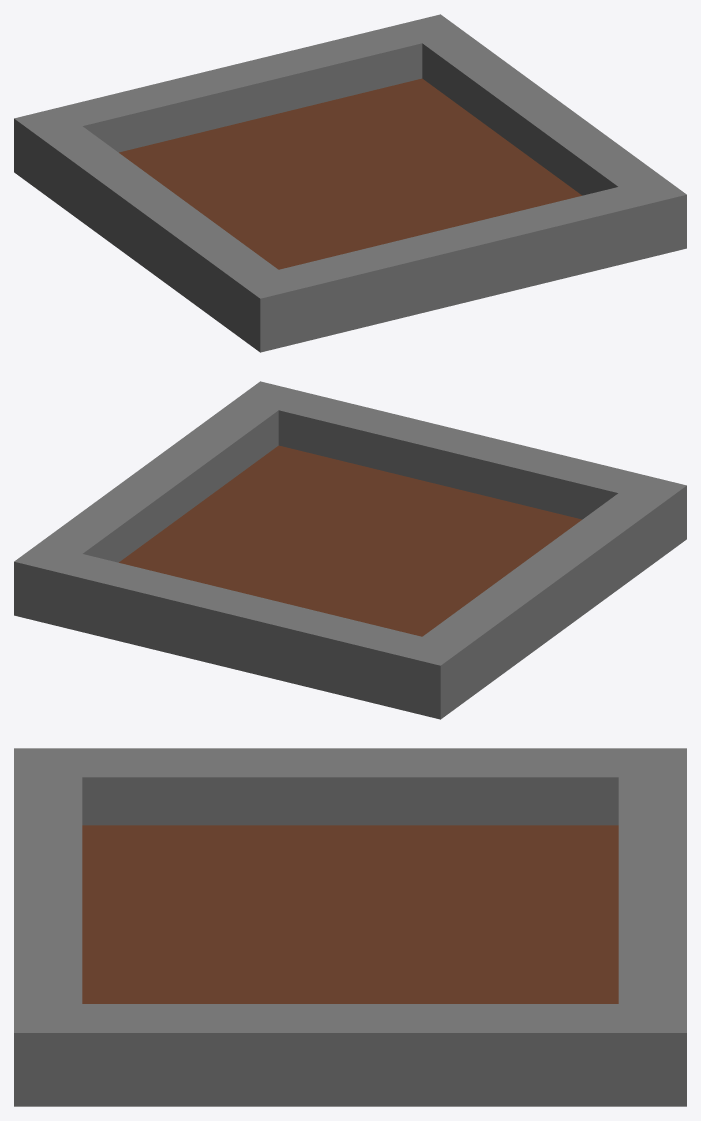
Rendered from Tree Pit.fbx.
3 views of the same model, one above another, from view 1: azimuth 30°, elevation 25°; view 2: azimuth 150°, elevation 25°; view 3: azimuth 270°, elevation 25° (orthographic). The views are drawn at different scales.
Visible parts, largest first — view 1: Tree Pit; view 2: Tree Pit; view 3: Tree Pit.
Part boxes in pixels (bbox=[...]): Tree Pit: bbox=[14, 14, 686, 352]; Tree Pit: bbox=[14, 381, 686, 719]; Tree Pit: bbox=[14, 748, 686, 1106].
Size of the model in its own units: 1.38 by 1.38 by 0.1671.
